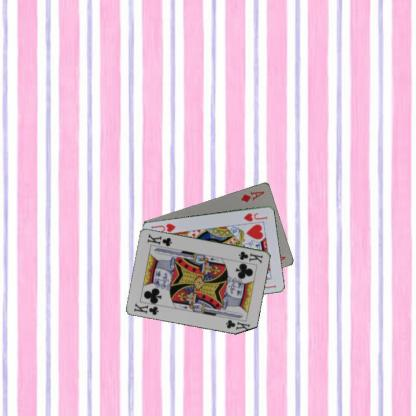Ad: (238, 188, 266, 204)
Jh: (242, 210, 269, 222)
Kc: (131, 300, 160, 316), (236, 248, 264, 264)
